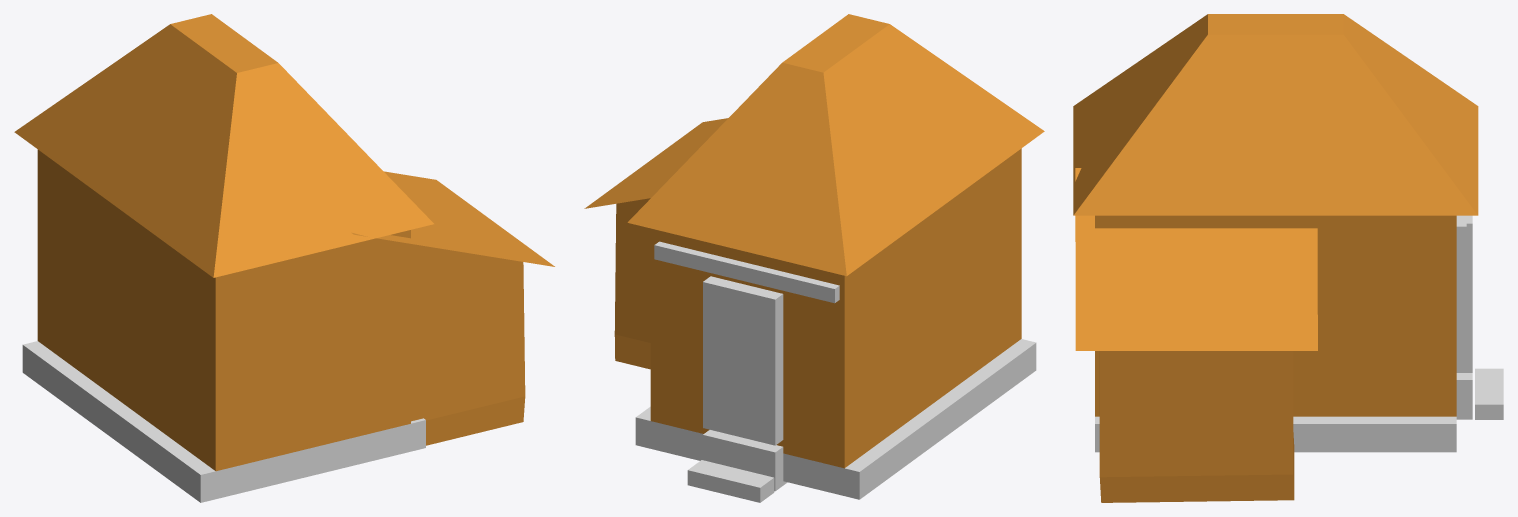
File: house.glb
The picture shows the model from 3 angles, left to right: view 1: azimuth 30°, elevation 25°; view 2: azimuth 150°, elevation 25°; view 3: azimuth 270°, elevation 25°; orthographic projection. The views are drawn at different scales.
Visible parts, largest first — view 1: Cube.004, Cube.006; view 2: Cube.004, Cube, Cube.006, Cube.001, Cube.007, Cube.008; view 3: Cube.004, Cube.006, Cube, Cube.008, Cube.007.
Boxes of the visible parts, x1,y1,x2,y2 form: Cube.004: (14, 14, 554, 471); Cube.006: (22, 341, 425, 502); Cube.004: (584, 14, 1044, 468); Cube: (703, 276, 783, 445); Cube.006: (635, 339, 1036, 499); Cube.001: (654, 241, 839, 303); Cube.007: (703, 430, 787, 491); Cube.008: (687, 460, 774, 502); Cube.004: (1073, 14, 1478, 502); Cube.006: (1095, 416, 1456, 452); Cube: (1456, 215, 1472, 372); Cube.008: (1475, 368, 1503, 419); Cube.007: (1456, 373, 1472, 419).
Size of the model in its own units: 3.54 by 3.64 by 3.76.
